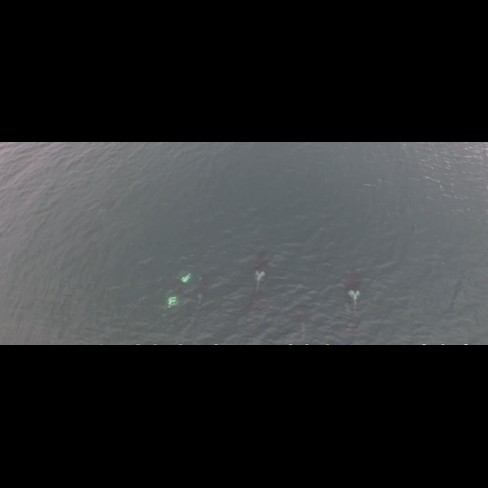orca: (239, 237, 271, 319), (339, 263, 369, 328)
